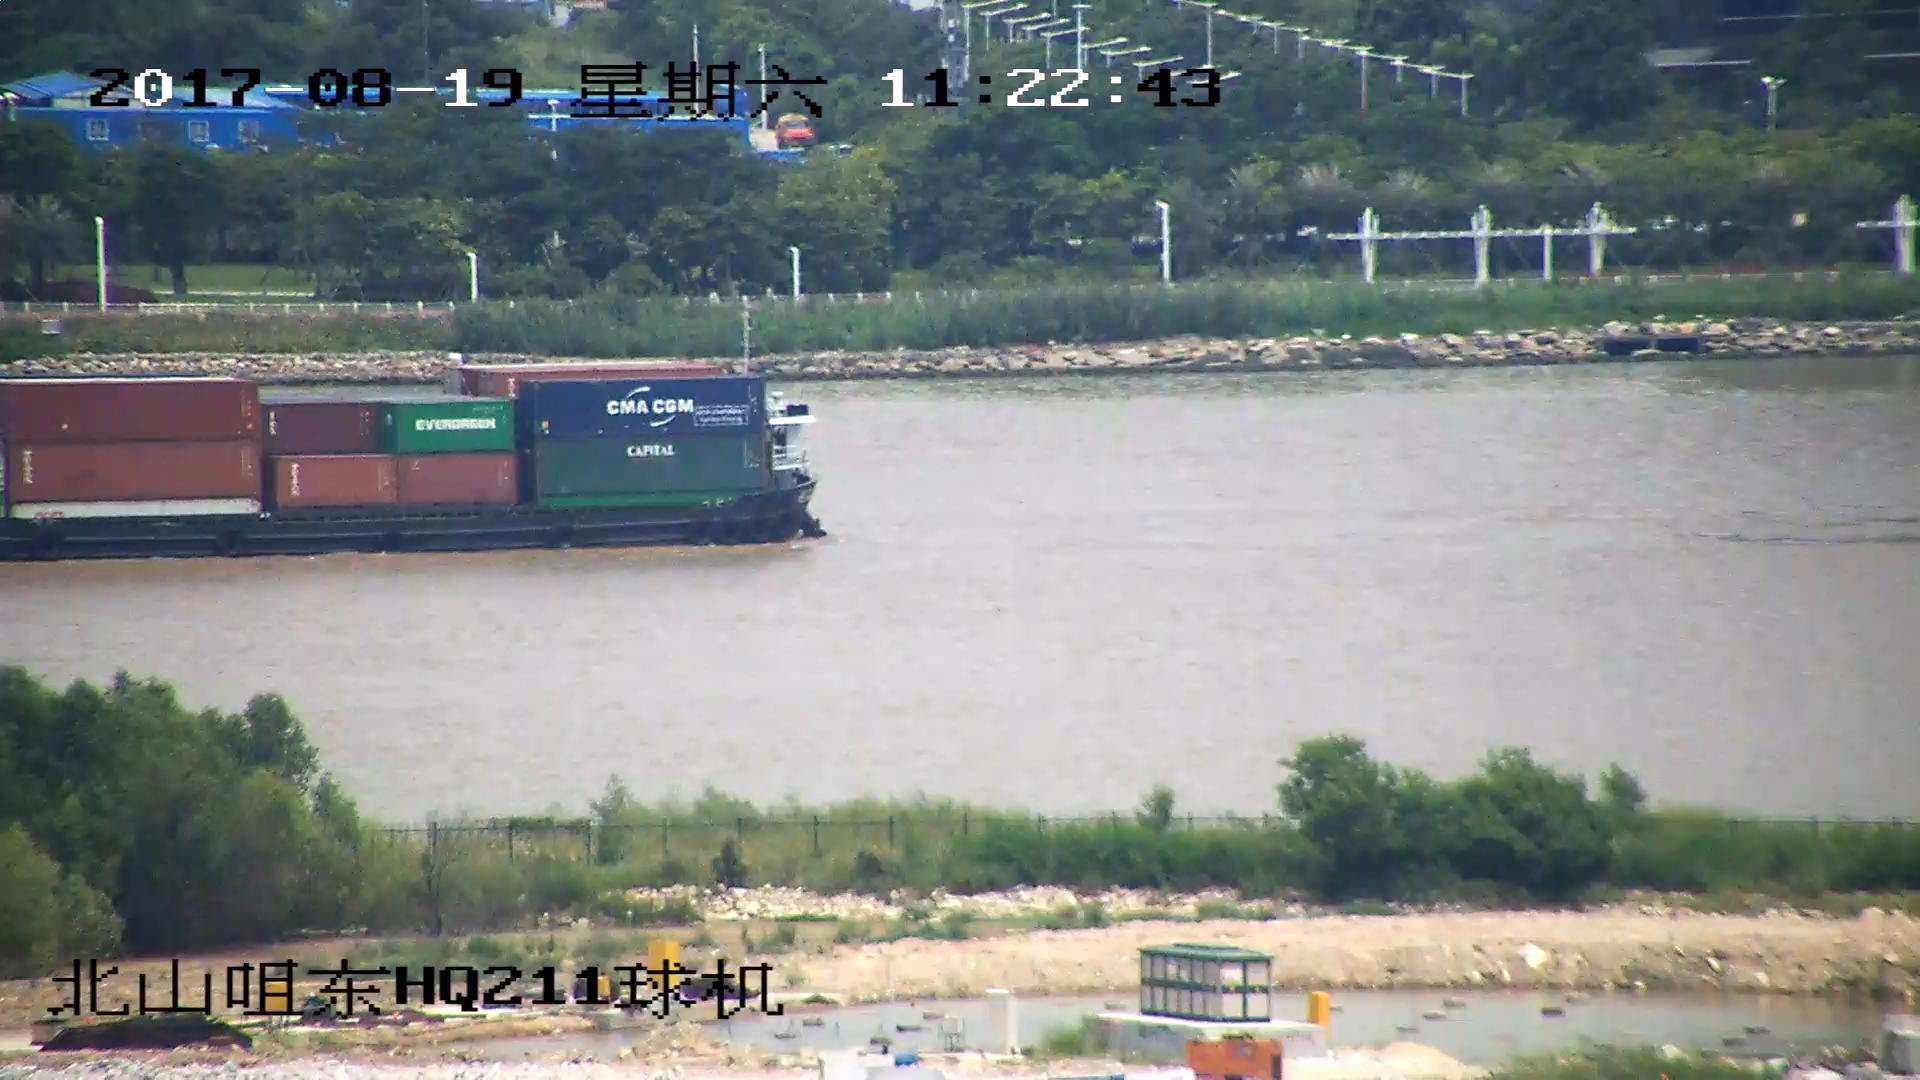container ship: (1, 358, 825, 551)
